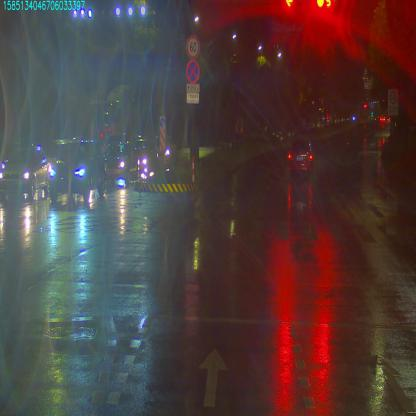traffic-light: (314, 0, 334, 8), (284, 0, 294, 8)
